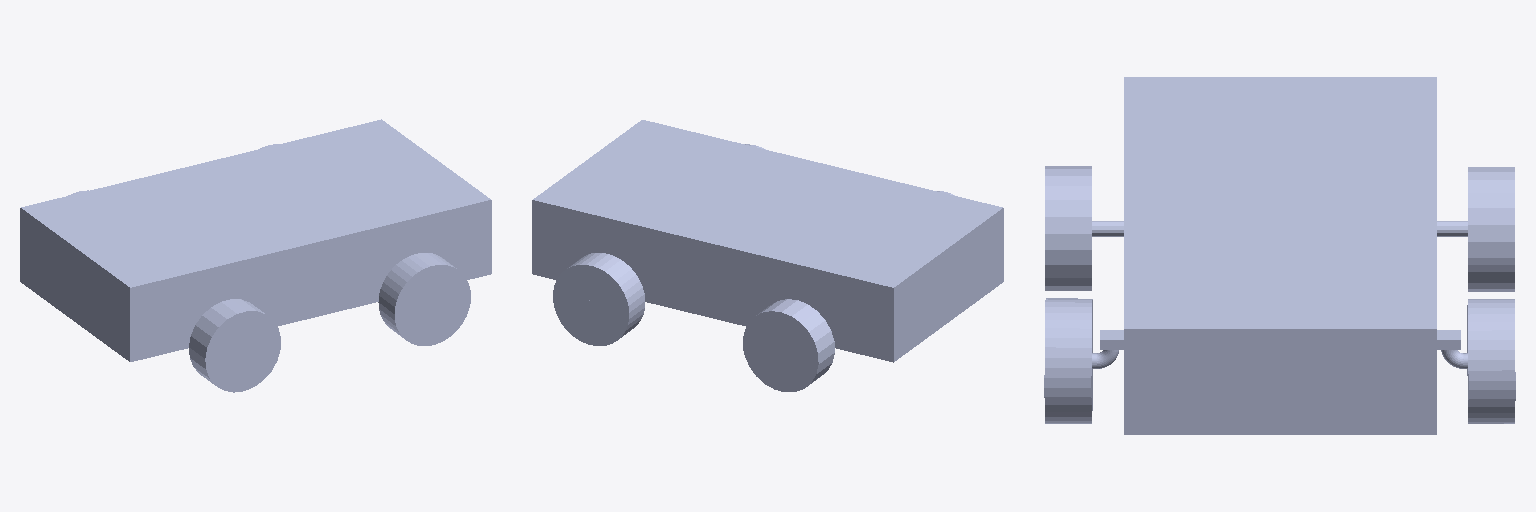
robot.urdf — mini_car:
<?xml version="1.0" encoding="utf-8"?>
<!-- =================================================================================== -->
<!-- |    This document was autogenerated by xacro from my_robot_integration.urdf.xacro | -->
<!-- |    EDITING THIS FILE BY HAND IS NOT RECOMMENDED                                 | -->
<!-- =================================================================================== -->
<!-- Name your robot here -->
<robot name="mini_car">
  <!--transmission name="dummy_trans">
    <type>transmission_interface/SimpleTransmission</type>
    <joint name="dummy_joint">
      <hardwareInterface>hardwareInterface/EffortJointInterface</hardwareInterface>
    </joint>
    <actuator name="dummy_motor">
      <mechanicalReduction>50</mechanicalReduction>
      <hardwareInterface>hardwareInterface/EffortJointInterface</hardwareInterface>
    </actuator>
  </transmission-->
  <transmission name="Rear_trans">
    <type>transmission_interface/SimpleTransmission</type>
    <joint name="rear_drive_joint">
      <hardwareInterface>hardwareInterface/PositionJointInterface</hardwareInterface>
    </joint>
    <actuator name="rear_motor">
      <mechanicalReduction>50</mechanicalReduction>
      <hardwareInterface>hardwareInterface/PositionJointInterface</hardwareInterface>
    </actuator>
  </transmission>
  <transmission name="left_front_steer_trans">
    <type>transmission_interface/SimpleTransmission</type>
    <joint name="left_front_steer_joint">
      <hardwareInterface>hardwareInterface/EffortJointInterface</hardwareInterface>
    </joint>
    <actuator name="left_front_steer_motor">
      <mechanicalReduction>50</mechanicalReduction>
      <hardwareInterface>hardwareInterface/EffortJointInterface</hardwareInterface>
    </actuator>
  </transmission>
  <transmission name="left_wheel_trans">
    <type>transmission_interface/SimpleTransmission</type>
    <joint name="left_wheel_joint">
      <hardwareInterface>hardwareInterface/EffortJointInterface</hardwareInterface>
    </joint>
    <actuator name="left_wheel_motor">
      <mechanicalReduction>50</mechanicalReduction>
      <hardwareInterface>hardwareInterface/EffortJointInterface</hardwareInterface>
    </actuator>
  </transmission>
  <transmission name="right_wheel_trans">
    <type>transmission_interface/SimpleTransmission</type>
    <joint name="right_link_joint">
      <hardwareInterface>hardwareInterface/EffortJointInterface</hardwareInterface>
    </joint>
    <actuator name="right_wheel_motor">
      <mechanicalReduction>50</mechanicalReduction>
      <hardwareInterface>hardwareInterface/EffortJointInterface</hardwareInterface>
    </actuator>
  </transmission>
  <link name="dummy_link">
  </link>
  <joint name="dummy_joint" type="fixed">
    <parent link="dummy_link"/>
    <child link="chassis"/>
  </joint>
  <link name="chassis">
    <inertial>
      <origin rpy="0 0 0" xyz="0.000799761683914332 1.5073956243953E-17 0.0954306825939049"/>
      <mass value="93.1848581866648"/>
      <inertia ixx="2.28713334560461" ixy="-8.93038026274078E-17" ixz="0.00487069017117028" iyy="7.51842340533568" iyz="1.13731323728705E-16" izz="9.24306451040249"/>
    </inertial>
    <visual>
      <origin rpy="0 0 0" xyz="0 0 0"/>
      <geometry>
        <mesh filename="package://mini_car/meshes/chassis.STL"/>
      </geometry>
      <material name="">
        <color rgba="0.792156862745098 0.819607843137255 0.933333333333333 1"/>
      </material>
    </visual>
    <collision>
      <origin rpy="0 0 0" xyz="0 0 0"/>
      <geometry>
        <mesh filename="package://mini_car/meshes/chassis.STL"/>
      </geometry>
    </collision>
  </link>
  <link name="rear_drive">
    <inertial>
      <origin rpy="0 0 0" xyz="1.11022302462516E-16 3.81639164714898E-17 1.38099554588136E-16"/>
      <mass value="5.25111094738319"/>
      <inertia ixx="0.605832013171467" ixy="0" ixz="-8.25552451419027E-18" iyy="0.605832013171467" iyz="-1.54751236957995E-18" izz="0.0255331022594418"/>
    </inertial>
    <visual>
      <origin rpy="0 0 0" xyz="0 0 0"/>
      <geometry>
        <mesh filename="package://mini_car/meshes/rear_drive.STL"/>
      </geometry>
      <material name="">
        <color rgba="0.792156862745098 0.819607843137255 0.933333333333333 1"/>
      </material>
    </visual>
    <collision>
      <origin rpy="0 0 0" xyz="0 0 0"/>
      <geometry>
        <mesh filename="package://mini_car/meshes/rear_drive.STL"/>
      </geometry>
    </collision>
  </link>
  <joint name="rear_drive_joint" type="revolute">
    <origin rpy="1.5708 0.1853 0" xyz="-0.254 0 0.0254"/>
    <parent link="chassis"/>
    <child link="rear_drive"/>
    <axis xyz="0 0 1"/>
    <limit effort="10" lower="0" upper="0" velocity="50"/>
  </joint>
  <link name="left_front_steer">
    <inertial>
      <origin rpy="0 0 0" xyz="-2.22044604925031E-16 0.0206107556410368 0.0402758603427741"/>
      <mass value="0.0733713578442023"/>
      <inertia ixx="0.000110146477694354" ixy="-6.57244627510134E-20" ixz="2.62712562546842E-19" iyy="9.72440317091054E-05" iyz="2.30486601099536E-05" izz="1.88194791385947E-05"/>
    </inertial>
    <visual>
      <origin rpy="0 0 0" xyz="0 0 0"/>
      <geometry>
        <mesh filename="package://mini_car/meshes/left_front_steer.STL"/>
      </geometry>
      <material name="">
        <color rgba="0.792156862745098 0.819607843137255 0.933333333333333 1"/>
      </material>
    </visual>
    <collision>
      <origin rpy="0 0 0" xyz="0 0 0"/>
      <geometry>
        <mesh filename="package://mini_car/meshes/left_front_steer.STL"/>
      </geometry>
    </collision>
  </link>
  <joint name="left_front_steer_joint" type="revolute">
    <origin rpy="1.5708 0 -3.1325" xyz="0.254 0.27305 0.012573"/>
    <parent link="chassis"/>
    <child link="left_front_steer"/>
    <axis xyz="0 1 0"/>
    <limit effort="10" lower="0" upper="0" velocity="50"/>
  </joint>
  <link name="left_wheel">
    <inertial>
      <origin rpy="0 0 0" xyz="-6.38378239159465E-16 -3.05311331771918E-16 -0.0405804417417294"/>
      <mass value="2.43249992415545"/>
      <inertia ixx="0.00755250482076536" ixy="6.97187524929094E-19" ixz="1.20295619169056E-17" iyy="0.00755250482076536" iyz="1.27393755267047E-18" izz="0.0127509821649285"/>
    </inertial>
    <visual>
      <origin rpy="0 0 0" xyz="0 0 0"/>
      <geometry>
        <mesh filename="package://mini_car/meshes/left_wheel.STL"/>
      </geometry>
      <material name="">
        <color rgba="0.792156862745098 0.819607843137255 0.933333333333333 1"/>
      </material>
    </visual>
    <collision>
      <origin rpy="0 0 0" xyz="0 0 0"/>
      <geometry>
        <mesh filename="package://mini_car/meshes/left_wheel.STL"/>
      </geometry>
    </collision>
  </link>
  <joint name="left_wheel_joint" type="revolute">
    <origin rpy="-3.1416 0 -1.1131" xyz="0 0.0127 0.02927"/>
    <parent link="left_front_steer"/>
    <child link="left_wheel"/>
    <axis xyz="0 0 1"/>
    <limit effort="10" lower="0" upper="0" velocity="50"/>
  </joint>
  <link name="right_front_steer">
    <inertial>
      <origin rpy="0 0 0" xyz="5.55111512312578E-17 0.0206107556410369 0.040275860342774"/>
      <mass value="0.0733713578442023"/>
      <inertia ixx="0.000110146477694354" ixy="2.64168400424935E-20" ixz="-9.43647642800494E-20" iyy="9.72440317091055E-05" iyz="2.30486601099536E-05" izz="1.88194791385947E-05"/>
    </inertial>
    <visual>
      <origin rpy="0 0 0" xyz="0 0 0"/>
      <geometry>
        <mesh filename="package://mini_car/meshes/right_front_steer.STL"/>
      </geometry>
      <material name="">
        <color rgba="0.792156862745098 0.819607843137255 0.933333333333333 1"/>
      </material>
    </visual>
    <collision>
      <origin rpy="0 0 0" xyz="0 0 0"/>
      <geometry>
        <mesh filename="package://mini_car/meshes/right_front_steer.STL"/>
      </geometry>
    </collision>
  </link>
  <joint name="right_front_steer_joint" type="revolute">
    <origin rpy="1.5708 0 -0.013511" xyz="0.254 -0.27305 0.012573"/>
    <parent link="chassis"/>
    <child link="right_front_steer"/>
    <axis xyz="0 1 0"/>
    <limit effort="10" lower="0" upper="0" velocity="50"/>
  </joint>
  <link name="right_wheel">
    <inertial>
      <origin rpy="0 0 0" xyz="5.3776427755281E-17 2.77555756156289E-16 0.0380860906074777"/>
      <mass value="2.43249992415545"/>
      <inertia ixx="0.00755250482076537" ixy="1.73840277534144E-20" ixz="3.17044432157285E-18" iyy="0.00755250482076536" iyz="-5.19739416435239E-18" izz="0.0127509821649285"/>
    </inertial>
    <visual>
      <origin rpy="0 0 0" xyz="0 0 0"/>
      <geometry>
        <mesh filename="package://mini_car/meshes/right_wheel.STL"/>
      </geometry>
      <material name="">
        <color rgba="0.792156862745098 0.819607843137255 0.933333333333333 1"/>
      </material>
    </visual>
    <collision>
      <origin rpy="0 0 0" xyz="0 0 0"/>
      <geometry>
        <mesh filename="package://mini_car/meshes/right_wheel.STL"/>
      </geometry>
    </collision>
  </link>
  <joint name="right_wheel_joint" type="revolute">
    <origin rpy="0 0 1.6459" xyz="0 0.0127 0.031764"/>
    <parent link="right_front_steer"/>
    <child link="right_wheel"/>
    <axis xyz="0 0 1"/>
    <limit effort="10" lower="0" upper="0" velocity="50"/>
  </joint>
  <link name="base_laser">
    <inertial>
      <origin rpy="0 0 0" xyz="-0.00029774 0.0066667 0.00013047"/>
      <mass value="0.15717"/>
      <inertia ixx="6.7885E-05" ixy="-1.3987E-07" ixz="-8.1554E-07" iyy="0.00013173" iyz="-9.0932E-08" izz="7.1972E-05"/>
    </inertial>
    <visual>
      <origin rpy="0 0 0" xyz="0 0 0"/>
      <geometry>
        <mesh filename="package://mini_car/meshes/ydlidar.dae"/>
      </geometry>
      <material name="">
        <color rgba="0.64706 0.61961 0.58824 1"/>
      </material>
    </visual>
    <collision>
      <origin rpy="0 0 0" xyz="0 0 0"/>
      <geometry>
        <mesh filename="package://mini_car/meshes/ydlidar.dae"/>
      </geometry>
    </collision>
  </link>
  <link name="laser_frame">
    <inertial>
      <origin rpy="0 0 0" xyz="-0.00036659 0.00064155 -0.00027052"/>
      <mass value="0.25482"/>
      <inertia ixx="8.9194E-05" ixy="1.8116E-07" ixz="3.6435E-08" iyy="0.00018279" iyz="2.423E-07" izz="0.00011103"/>
    </inertial>
    <!--visual>
      <origin
        xyz="0 0 0"
        rpy="0 0 0" />
      <geometry>
        <mesh
          filename="package://ydlidar_ros/meshes/ydlidar.dae" />
      </geometry>
      <material
        name="">
        <color
          rgba="0.64706 0.61961 0.58824 1" />
      </material>
    </visual-->
    <!--collision>
      <origin
        xyz="0 0 0"
        rpy="0 0 0" />
      <geometry>
        <mesh
          filename="package://ydlidar_ros/meshes/ydlidar.dae" />
      </geometry>
    </collision-->
  </link>
  <joint name="laser_joint" type="fixed">
    <origin rpy="0 0 0" xyz="0 0 0.03172"/>
    <parent link="base_laser"/>
    <child link="laser_frame"/>
    <axis xyz="0 0 0"/>
  </joint>
  <!-- Add your gazebo sensors here -->
  <gazebo reference="base_laser">
    <!-- <gravity>true</gravity> -->
    <!-- Gazebo has fixed set of Sensors types. Check them out here <> -->
    <sensor name="laser" type="ray">
      <!-- Add in your sensor characteristics -->
      <pose> 0 0 0 0 0 0 </pose>
      <visualise>true</visualise>
      <update_rate>40</update_rate>
      <!-- <always_on>true</always_on> -->
      <ray>
        <scan>
          <horizontal>
            <samples>720</samples>
            <resolution>1</resolution>
            <min_angle>-1.570796</min_angle>
            <max_angle>1.570796</max_angle>
          </horizontal>
        </scan>
        <range>
          <min>0.10</min>
          <max>30.0</max>
          <resolution>0.01</resolution>
        </range>
        <noise>
          <type>gaussian</type>
          <mean>0.0</mean>
          <stddev>0.01</stddev>
        </noise>
      </ray>
      <plugin filename="libgazebo_ros_laser.so" name="gazebo_ros_head_hokuyo_controller">
        <!-- Use topic name as /my_robot/scan -->
        <topicName>/my_robot/scan</topicName>
        <frameName>laser_frame</frameName>
      </plugin>
    </sensor>
  </gazebo>
  <!--  Gazebo plugin for control here is already added for you -->
  <gazebo>
    <plugin filename="libgazebo_ros_control.so" name="gazebo_ros_control">
      <robotNamespace>/simple_car</robotNamespace>
      <robotSimType>gazebo_ros_control/DefaultRobotHWSim</robotSimType>
      <legacyModeNS>true</legacyModeNS>
    </plugin>
  </gazebo>
  <!-- Create a joint between your robot and sensor -->
  <joint name="lidar_joint" type="fixed">
    <origin rpy="0 0 0" xyz="0 0 0.25"/>
    <parent link="chassis"/>
    <child link="base_laser"/>
  </joint>
</robot>

--- Facts derived from the render (not from the file) ---
Views: 3 orthographic renders of the robot side by side, from view 1: azimuth 30°, elevation 25°; view 2: azimuth 150°, elevation 25°; view 3: azimuth 270°, elevation 25°.
Robot: mini_car — 9 links, 8 joints (5 revolute, 3 fixed); root link dummy_link; default pose: all joints at 0.
Links seen in each view (by area): view 1: chassis, rear_drive, right_wheel; view 2: chassis, rear_drive, left_wheel; view 3: chassis, rear_drive, right_wheel, left_wheel.
Boxes of the visible links, left/top/right/bottom form: chassis: left=20, top=119, right=491, bottom=361; rear_drive: left=68, top=190, right=280, bottom=392; right_wheel: left=378, top=253, right=470, bottom=345; chassis: left=532, top=120, right=1003, bottom=362; rear_drive: left=743, top=191, right=954, bottom=391; left_wheel: left=553, top=253, right=644, bottom=345; chassis: left=1100, top=77, right=1460, bottom=434; rear_drive: left=1045, top=166, right=1514, bottom=291; right_wheel: left=1044, top=298, right=1092, bottom=423; left_wheel: left=1467, top=299, right=1515, bottom=423.
Size in the robot's own frame: 0.9652 by 0.7636 by 0.2668 metres.
6 mesh visuals loaded from 7 distinct referenced files (6 binary STL); not drawn: 1 (reference not matched to a file when rendering).
